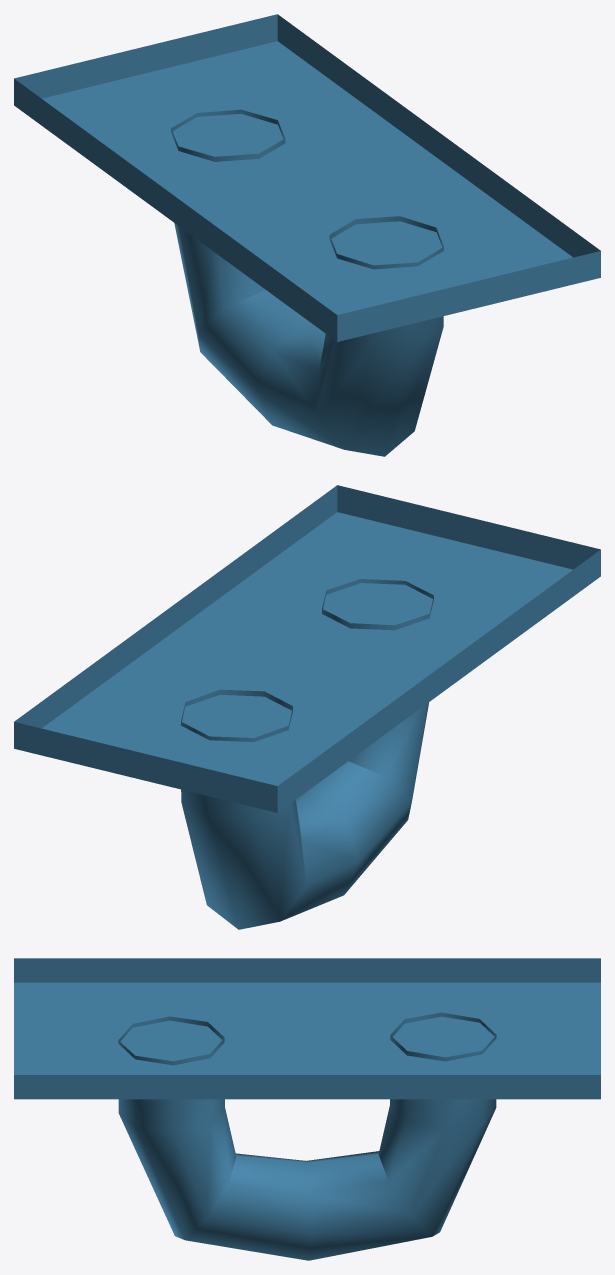
File: Mesh_CadenaV1.fbx
The picture shows the model from 3 angles, top to bottom: view 1: azimuth 30°, elevation 25°; view 2: azimuth 150°, elevation 25°; view 3: azimuth 270°, elevation 25°; orthographic projection. The views are drawn at different scales.
Visible parts, largest first — view 1: Mesh_CadenaV1; view 2: Mesh_CadenaV1; view 3: Mesh_CadenaV1.
Boxes of the visible parts, box(x1,y1,x2,y2) form: Mesh_CadenaV1: box(14, 14, 600, 456); Mesh_CadenaV1: box(14, 485, 600, 929); Mesh_CadenaV1: box(14, 958, 600, 1260).
Bounding box in the file's own units: 34.84 × 33.72 × 74.
